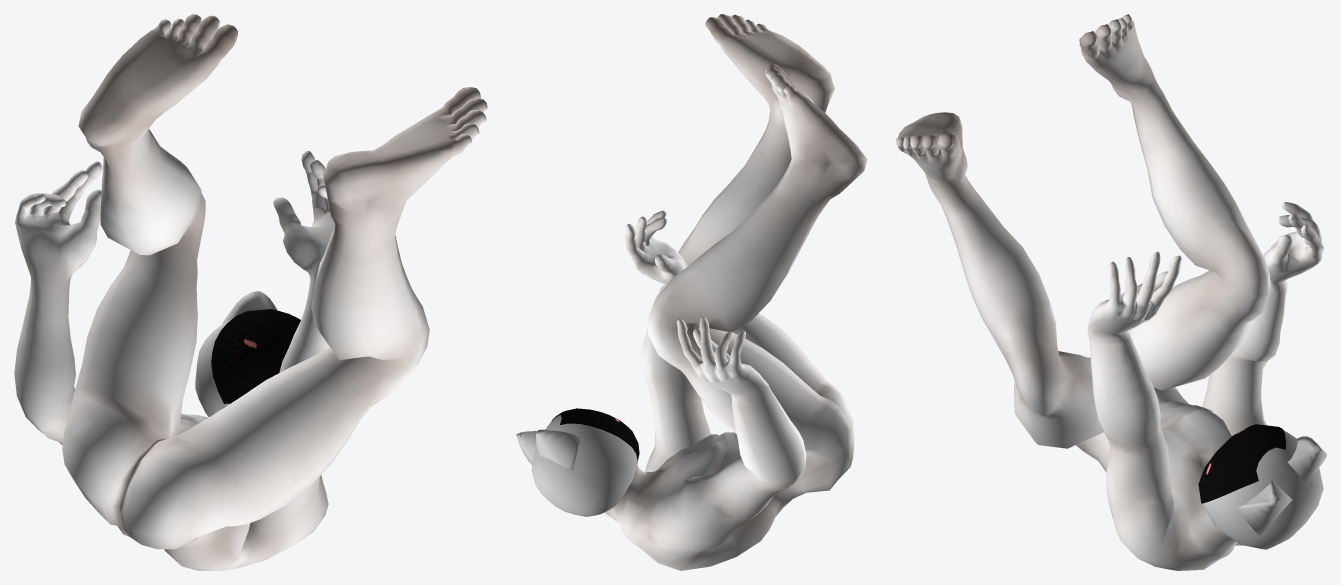
The picture shows the model from 3 angles, left to right: view 1: azimuth 30°, elevation 25°; view 2: azimuth 150°, elevation 25°; view 3: azimuth 270°, elevation 25°; orthographic projection. The views are drawn at different scales.
Visible parts, largest first — view 1: Muscle_Body, ______?001, Cat_Head; view 2: Muscle_Body, Cat_Head, ______?001; view 3: Muscle_Body, Cat_Head, ______?001.
Part boxes in pixels (x1,y1,x2,y2): Muscle_Body: (14,14,487,570); ______?001: (211,309,300,403); Cat_Head: (195,291,276,417); Muscle_Body: (604,14,867,570); Cat_Head: (516,415,637,516); ______?001: (552,408,639,467); Muscle_Body: (896,14,1323,570); Cat_Head: (1202,430,1326,549); ______?001: (1198,424,1285,503).
Bounding box in the file's own units: 11.6 × 18.96 × 14.44.
